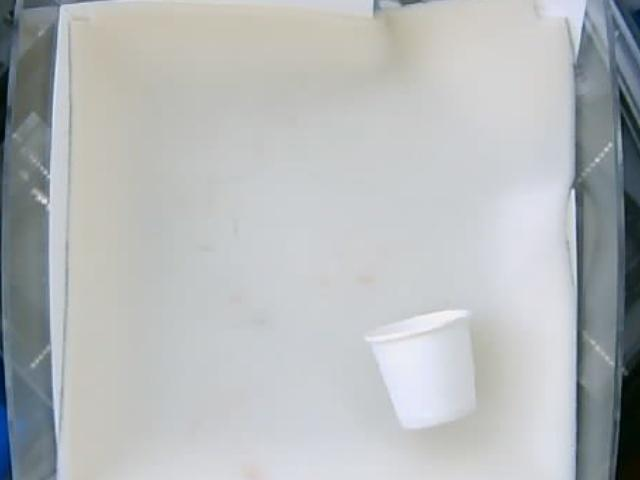Cup: (363, 308, 481, 428)
